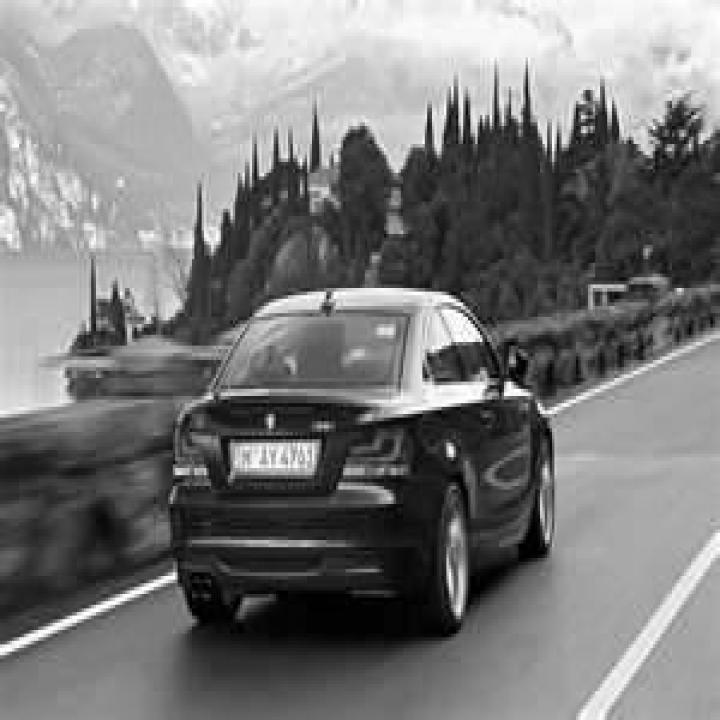car: (166, 280, 554, 634)
plat: (230, 442, 320, 476)
